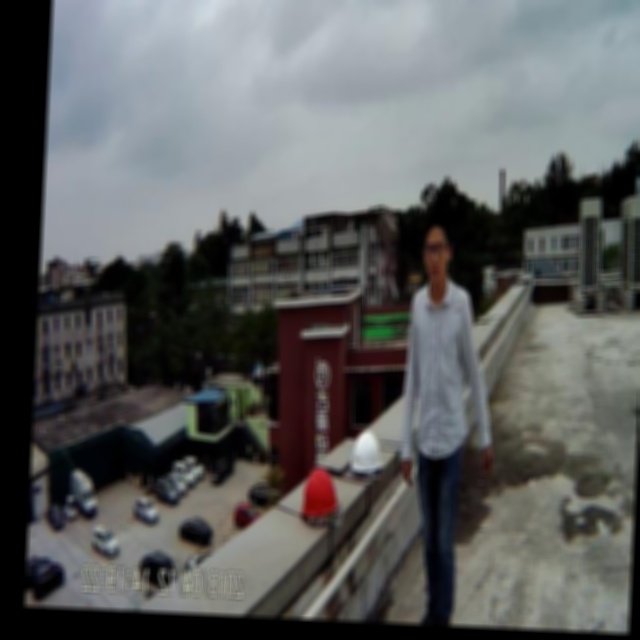Con_Casco: (300, 467, 343, 528), (349, 430, 384, 483)
Sin_Chaleco: (404, 281, 471, 464)
